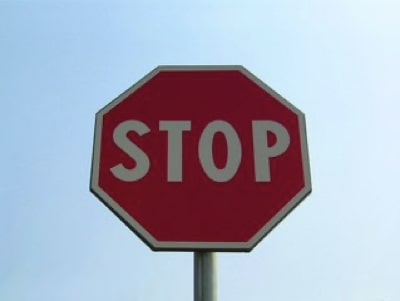StopSign: (88, 63, 314, 254)
